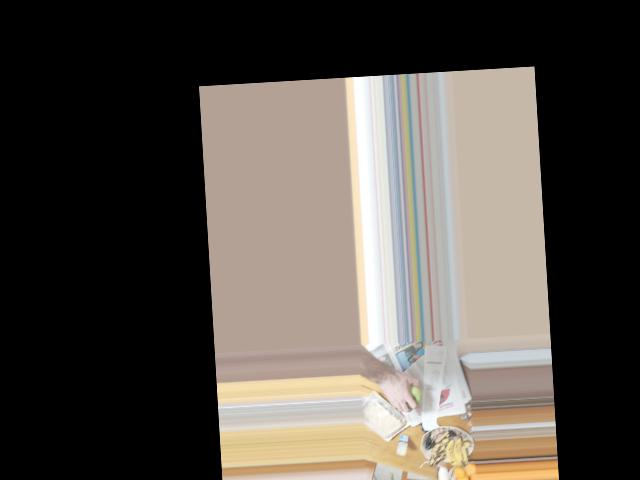apple: (395, 380, 421, 409)
